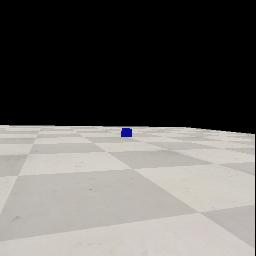box: (121, 128, 132, 137)
